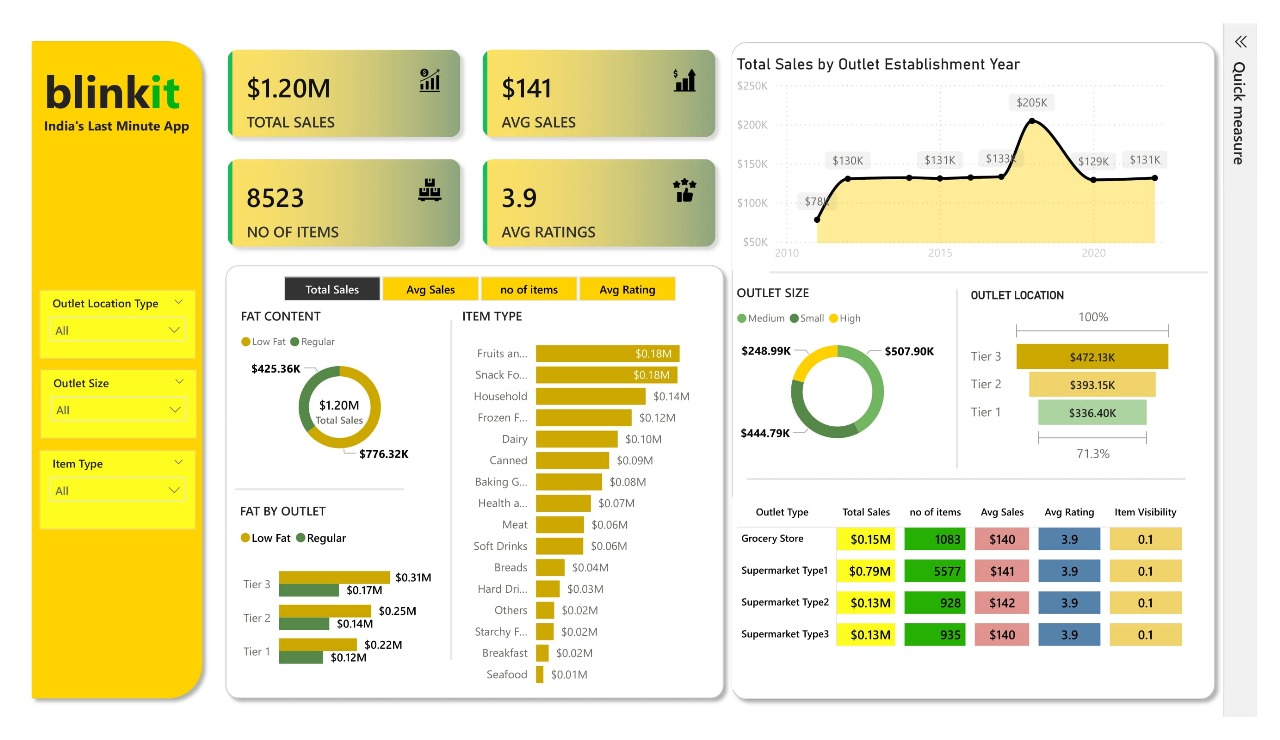

This screenshot's page, from the dashboard's own definition file:
{"tool":"powerbi","page":{"name":"Page 1","canvas":[1280,720],"ordinal":0},"visuals":[{"type":"shape","box":[0,0,200.1,719.1],"z":0},{"type":"textbox","box":[17,22.6,167.3,122.1],"z":1000},{"type":"textbox","box":[17,83.7,167.3,62.2],"z":2000},{"type":"cardVisual","fields":{"Data":["BlinkIT Grocery Data.Total Sales","BlinkIT Grocery Data.Avg Sales","BlinkIT Grocery Data.no of items","BlinkIT Grocery Data.Avg Rating"]},"box":[200.5,1.2,555.9,243.8],"z":3000},{"type":"shape","box":[206.5,238.9,549.9,480.3],"z":4000},{"type":"donutChart","title":"FAT CONTENT","fields":{"Y":["BlinkIT Grocery Data.Total Sales"],"Category":["BlinkIT Grocery Data.Item Fat Content"]},"box":[226.9,293,220.9,169.3],"z":5000},{"type":"slicer","fields":{"Values":["Metrics.Metrics"]},"box":[252.2,253.4,468.3,39.6],"z":6000},{"type":"cardVisual","fields":{"Data":["BlinkIT Grocery Data.Total Sales"]},"box":[293,369.8,87.7,60],"z":7000},{"type":"clusteredBarChart","title":"FAT BY OUTLET","fields":{"Y":["BlinkIT Grocery Data.Total Sales"],"Category":["BlinkIT Grocery Data.Outlet Location Type"],"Series":["BlinkIT Grocery Data.Item Fat Content"]},"box":[225.7,500.7,214.9,193.3],"z":8000},{"type":"shape","box":[225.7,473.1,180.1,27.6],"z":9000},{"type":"shape","box":[440.7,306.2,31.2,362.6],"z":10000},{"type":"barChart","title":"ITEM TYPE","fields":{"Y":["BlinkIT Grocery Data.Total Sales"],"Category":["BlinkIT Grocery Data.Item Type"]},"box":[463.5,293,283.4,415.5],"z":11000},{"type":"shape","box":[746.9,1.2,533.1,719.2],"z":12000},{"type":"lineChart","fields":{"Y":["BlinkIT Grocery Data.Total Sales"],"Category":["BlinkIT Grocery Data.Outlet Establishment Year"]},"box":[756.5,22.8,468.3,230.5],"z":13000},{"type":"shape","box":[796.1,236.5,468.3,37.2],"z":14000},{"type":"donutChart","title":"OUTLET SIZE","fields":{"Y":["BlinkIT Grocery Data.Total Sales"],"Category":["BlinkIT Grocery Data.Outlet Size"]},"box":[756.5,267.8,224.5,186.1],"z":15000},{"type":"shape","box":[973.8,272.6,44.4,192.1],"z":15001},{"type":"funnel","title":"OUTLET LOCATION","fields":{"Category":["BlinkIT Grocery Data.Outlet Location Type"],"Y":["BlinkIT Grocery Data.Total Sales"]},"box":[1006.2,272.6,225.7,190.9],"z":15002},{"type":"shape","box":[772.1,457.5,468.3,37.2],"z":15003},{"type":"pivotTable","fields":{"Rows":["BlinkIT Grocery Data.Outlet Type"],"Values":["BlinkIT Grocery Data.Total Sales","BlinkIT Grocery Data.no of items","BlinkIT Grocery Data.Avg Sales","BlinkIT Grocery Data.Avg Rating","Avg(BlinkIT Grocery Data.Item Visibility)"]},"box":[756.5,494.7,507.9,206.5],"z":15004},{"type":"slicer","fields":{"Values":["BlinkIT Grocery Data.Outlet Location Type"]},"box":[16.8,273.8,166.9,74.4],"z":15005},{"type":"slicer","fields":{"Values":["BlinkIT Grocery Data.Outlet Size"]},"box":[18,359,166.9,74.4],"z":15006},{"type":"slicer","fields":{"Values":["BlinkIT Grocery Data.Item Type"]},"box":[16.8,445.5,166.9,84.1],"z":15007}]}

Visuals, with their boxes in screenshot pixels (x1, y1, x2, y2), scaled from the page's 1280x720 canvas onto the 1280x740 screenshot:
shape: [0, 0, 200, 739]
textbox: [17, 23, 184, 149]
textbox: [17, 86, 184, 150]
cardVisual - BlinkIT Grocery Data.Total Sales x BlinkIT Grocery Data.Avg Sales: [200, 1, 756, 252]
shape: [206, 246, 756, 739]
"FAT CONTENT" donutChart: [227, 301, 448, 475]
slicer - Metrics.Metrics: [252, 260, 720, 301]
cardVisual - BlinkIT Grocery Data.Total Sales: [293, 380, 381, 442]
"FAT BY OUTLET" clusteredBarChart: [226, 515, 441, 713]
shape: [226, 486, 406, 515]
shape: [441, 315, 472, 687]
"ITEM TYPE" barChart: [464, 301, 747, 728]
shape: [747, 1, 1279, 739]
lineChart - BlinkIT Grocery Data.Total Sales x BlinkIT Grocery Data.Outlet Establishment Year: [756, 23, 1225, 260]
shape: [796, 243, 1264, 281]
"OUTLET SIZE" donutChart: [756, 275, 981, 467]
shape: [974, 280, 1018, 478]
"OUTLET LOCATION" funnel: [1006, 280, 1232, 476]
shape: [772, 470, 1240, 508]
pivotTable - BlinkIT Grocery Data.Outlet Type x BlinkIT Grocery Data.Total Sales: [756, 508, 1264, 721]
slicer - BlinkIT Grocery Data.Outlet Location Type: [17, 281, 184, 358]
slicer - BlinkIT Grocery Data.Outlet Size: [18, 369, 185, 445]
slicer - BlinkIT Grocery Data.Item Type: [17, 458, 184, 544]
